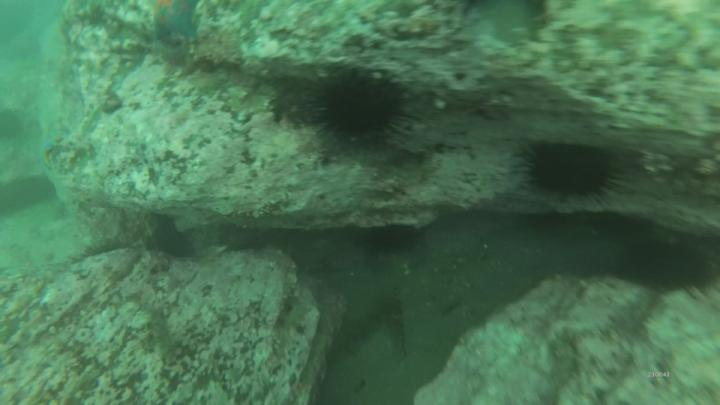echinus: (317, 66, 407, 154), (525, 139, 612, 201), (636, 232, 708, 301), (360, 222, 423, 264)
starfish: (149, 1, 204, 41)
